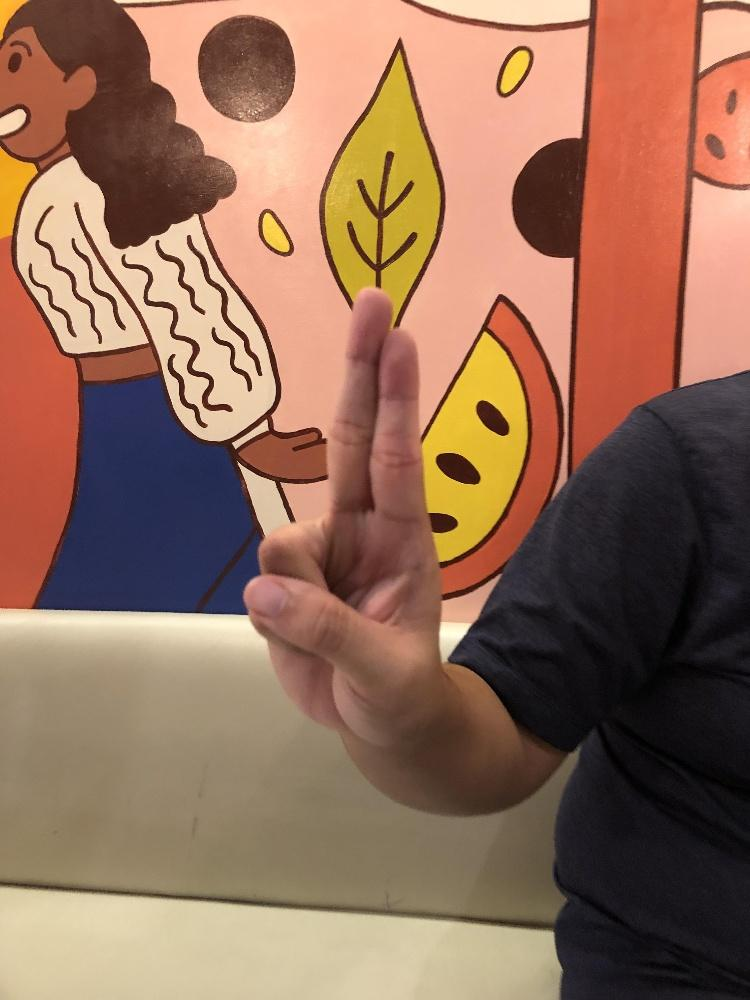u: (239, 281, 444, 744)
